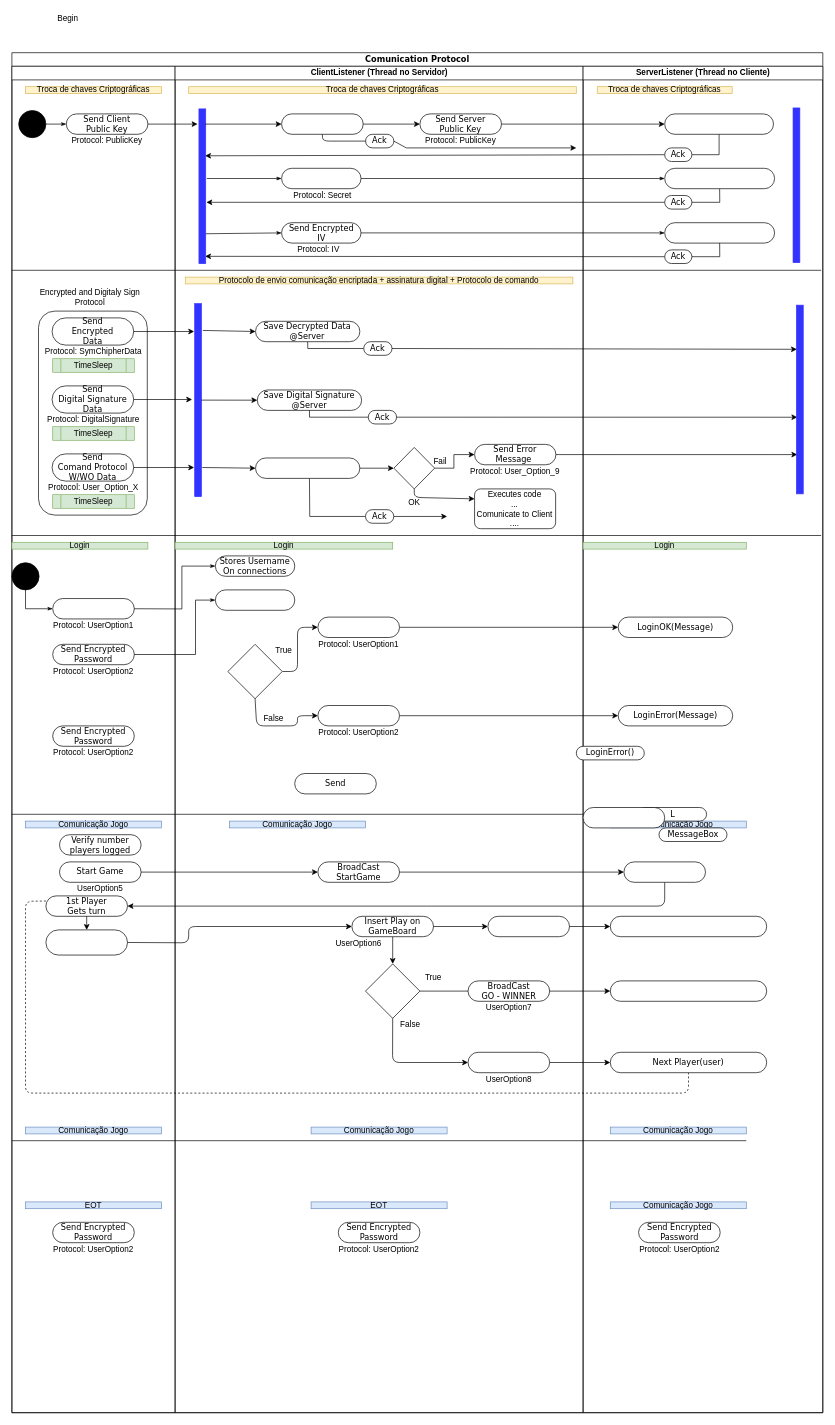
This 835x1425 diagram has some shape labels left out. The box of each missing label's shape, as (x1, y1, x2, y2) in pixels:
BroadCast Inserted Play: (487, 916, 570, 937)
BroadCast Next PLayer: (467, 1052, 550, 1073)
CheckRegister: (582, 807, 665, 828)
Checks DigSignature Vs Data: (255, 457, 360, 478)
Client Form: (11, 66, 175, 1413)
DataSign: (393, 447, 435, 489)
Game Over: (365, 963, 420, 1018)
GameOver(winner): (610, 980, 767, 1001)
Logged?: (227, 644, 282, 699)
Player Sends Play: (45, 929, 128, 955)
Save Client Public Key: (281, 113, 363, 134)
Save Server->Public Key @Client Form: (664, 113, 774, 134)
Send Encripted SymKey: (281, 168, 361, 189)
Send Encripted Username: (52, 598, 134, 619)
StartGame(): (623, 861, 706, 882)
Stores Password On connections: (215, 589, 295, 610)
Update Aes->IV @Client Form: (664, 222, 775, 243)
Update Aes->SymKey @Client Form: (664, 168, 775, 189)
UpdateGameBoard(int x, int y): (610, 916, 767, 937)
User Logged: (317, 616, 400, 638)
User NotLogged: (317, 705, 400, 726)
